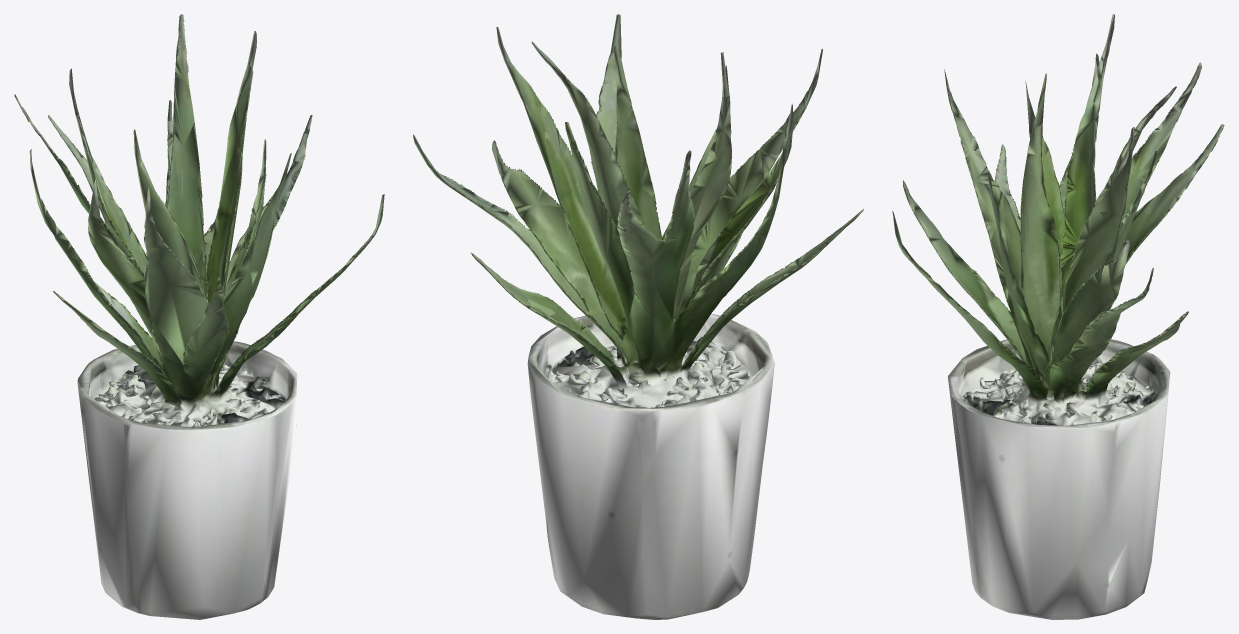
The picture shows the model from 3 angles, left to right: view 1: azimuth 30°, elevation 25°; view 2: azimuth 150°, elevation 25°; view 3: azimuth 270°, elevation 25°; orthographic projection. The views are drawn at different scales.
Parts seen in each view (by area): view 1: Mesh_0; view 2: Mesh_0; view 3: Mesh_0.
Boxes of the visible parts, x1,y1,x2,y2 form: Mesh_0: (14,14,384,619); Mesh_0: (413,14,863,619); Mesh_0: (892,14,1224,619).
Bounding box in the file's own units: 0.1338 × 0.1999 × 0.1142.
1 material, 1 textured.
